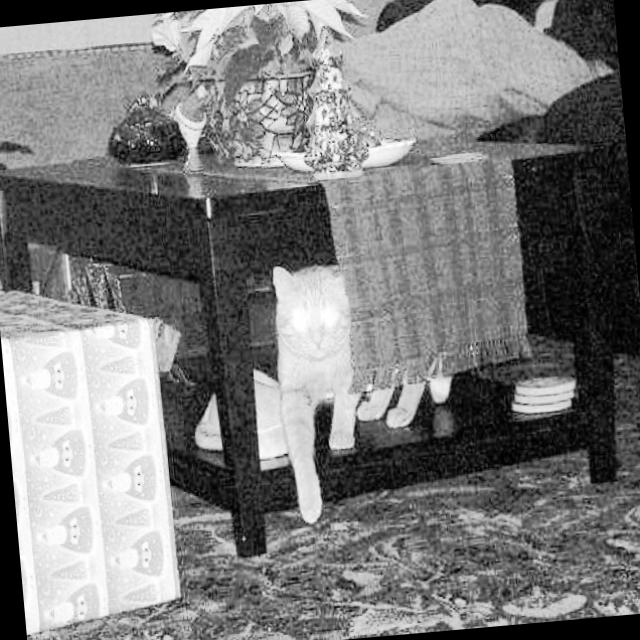Cat: (266, 244, 470, 507)
